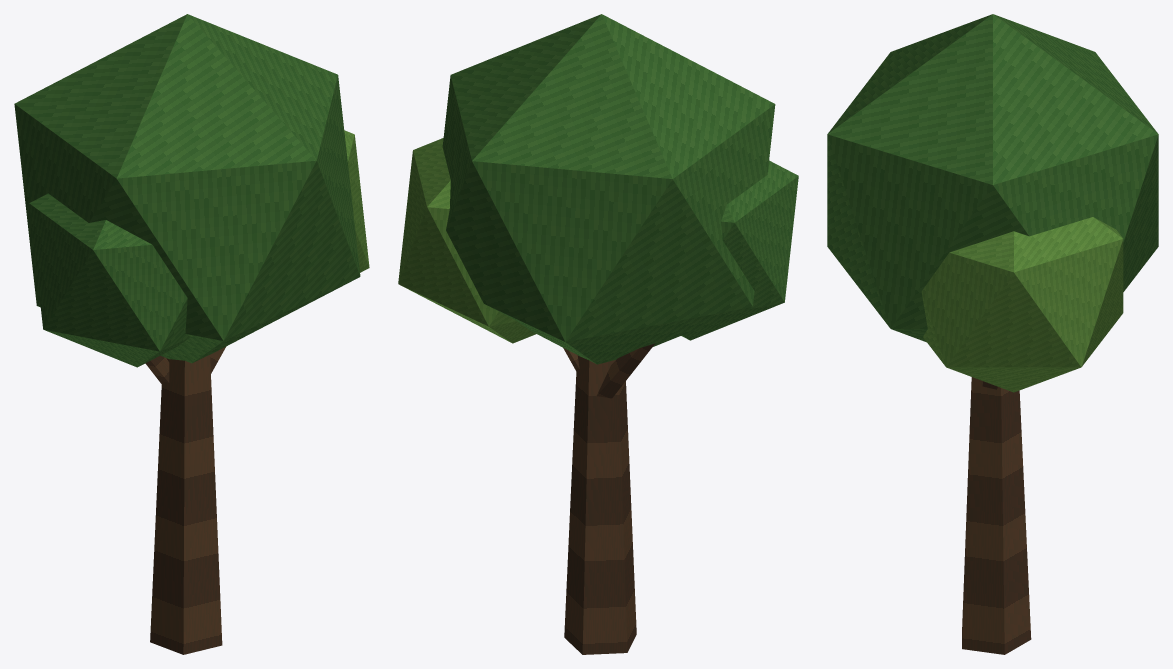
The model's file is tree-lod1.glb.
The picture shows the model from 3 angles, left to right: view 1: azimuth 30°, elevation 25°; view 2: azimuth 150°, elevation 25°; view 3: azimuth 270°, elevation 25°; orthographic projection.
Visible parts, largest first — view 1: tree-lod1; view 2: tree-lod1; view 3: tree-lod1.
Part boxes in pixels (x1=…): tree-lod1: x1=14, y1=14, x2=369, y2=654; tree-lod1: x1=398, y1=14, x2=798, y2=654; tree-lod1: x1=827, y1=14, x2=1158, y2=654.
Size of the model in its own units: 2.27 by 3.97 by 1.91.
Materials: 1 (1 with a texture image).
